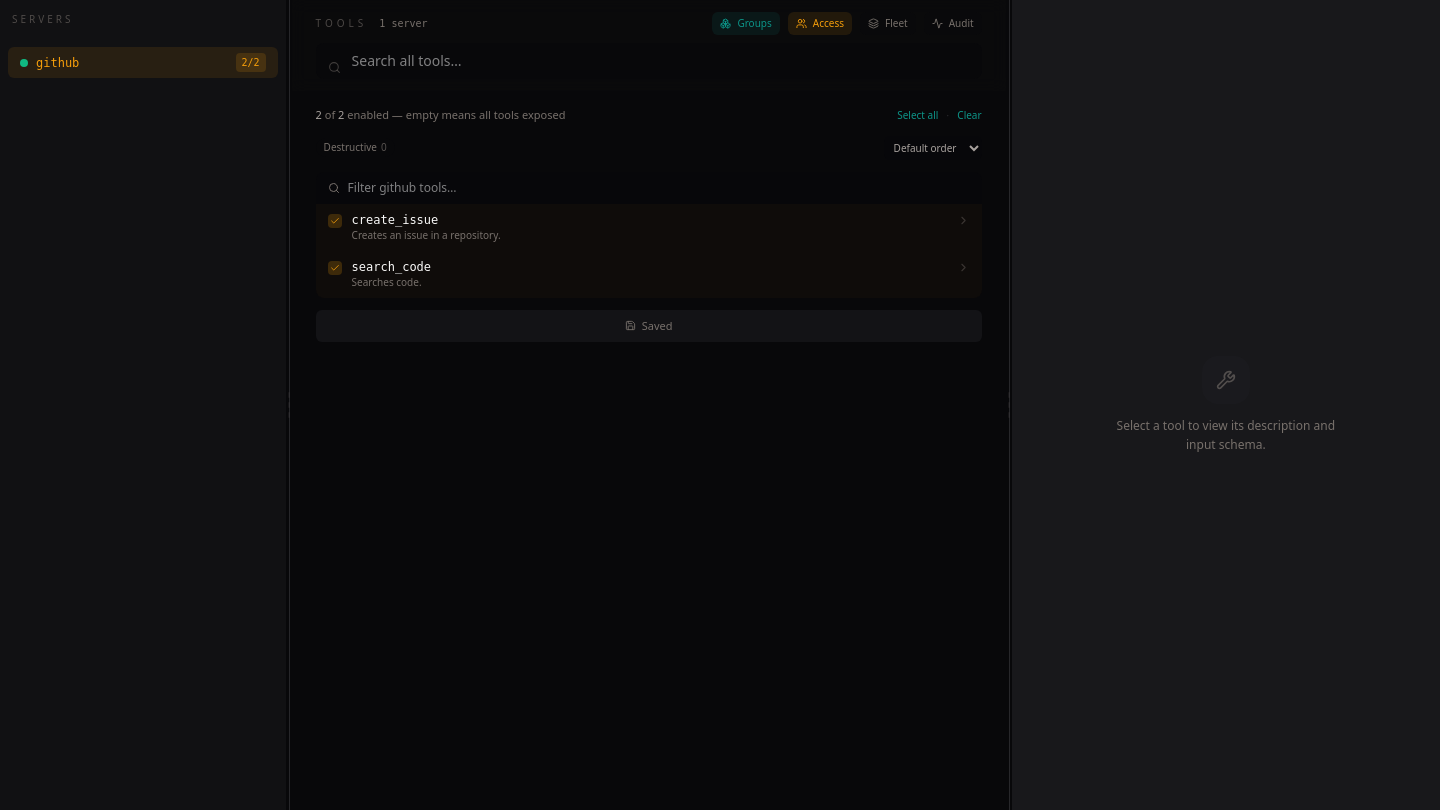
Test: ToolsWorkspace groups integration › shows the Groups button when unconfigured and opens the empty state
Click the button with aria-label "Open tool groups". click: point(746, 24)
box: [712,12,780,35]
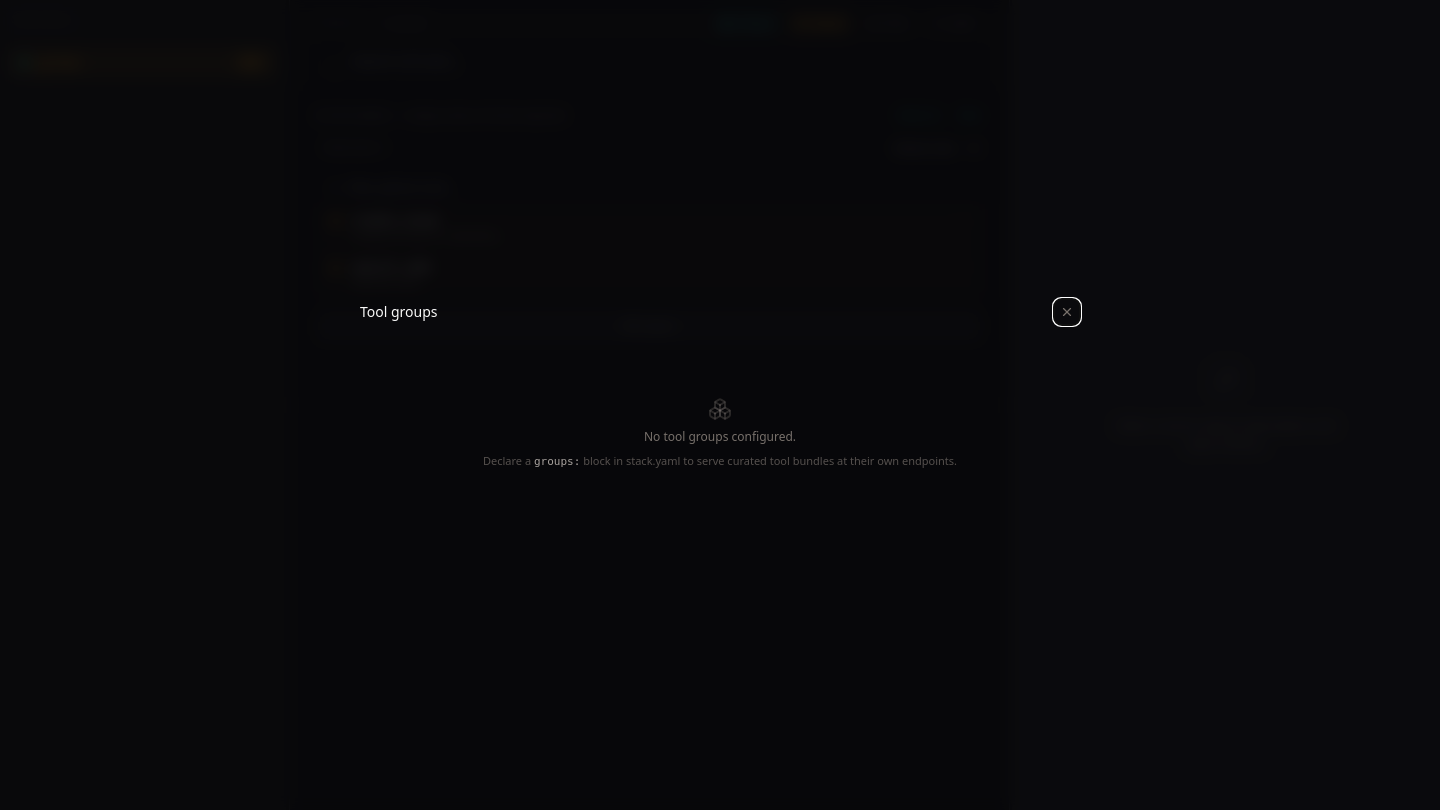
Check: the text "No tool groups configured." is shown, box [644,428,796,445]
